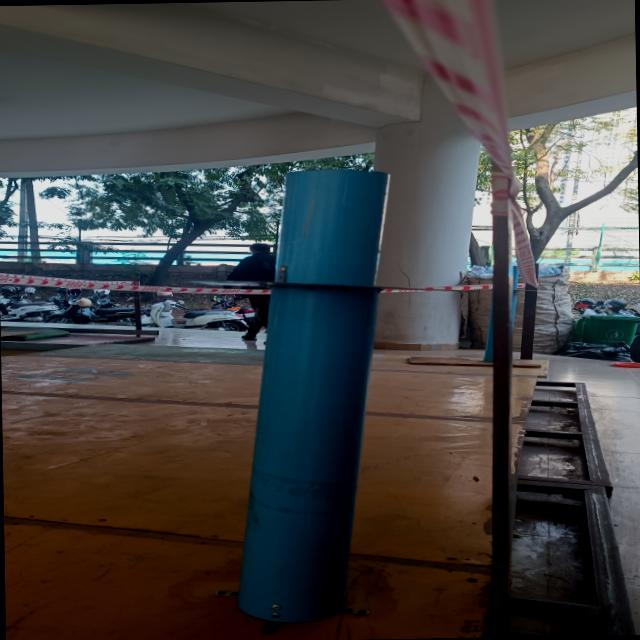pole: (175, 165, 477, 398)
